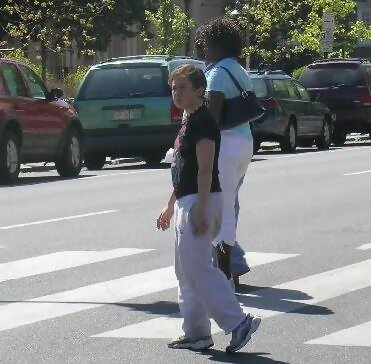person: (154, 60, 266, 362), (194, 18, 272, 281)
